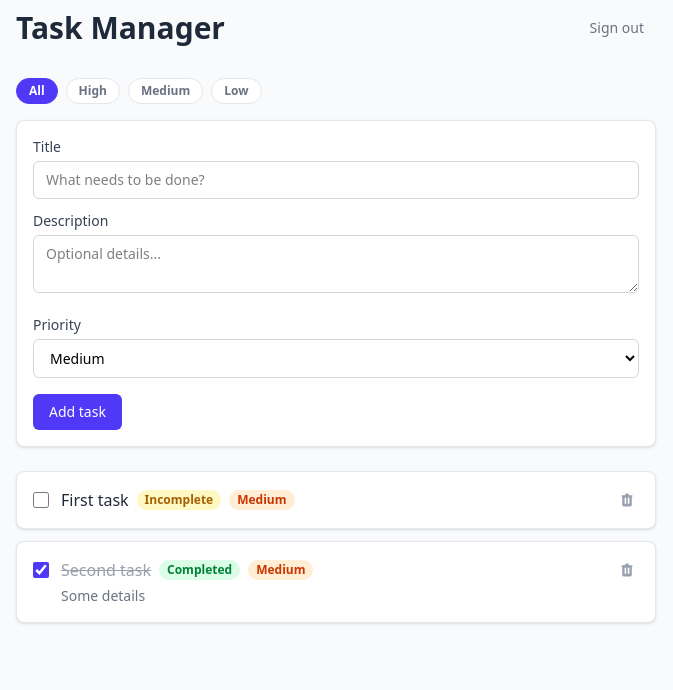
Test: App › prepends a new task to the list after form submission
This screenshot has width=673, height=690.
Expected: the text "First task" is shown, 61,488 -> 129,512
In the field labelled "Title": {"x": 336, "y": 180} 33,161 -> 639,199, type "Brand new task"
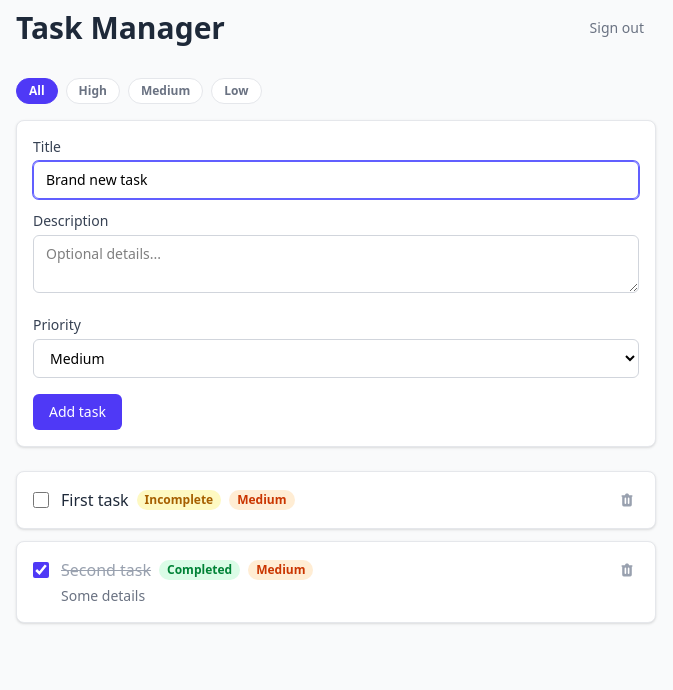
Click the button "Add task": {"x": 77, "y": 412} 33,394 -> 122,430
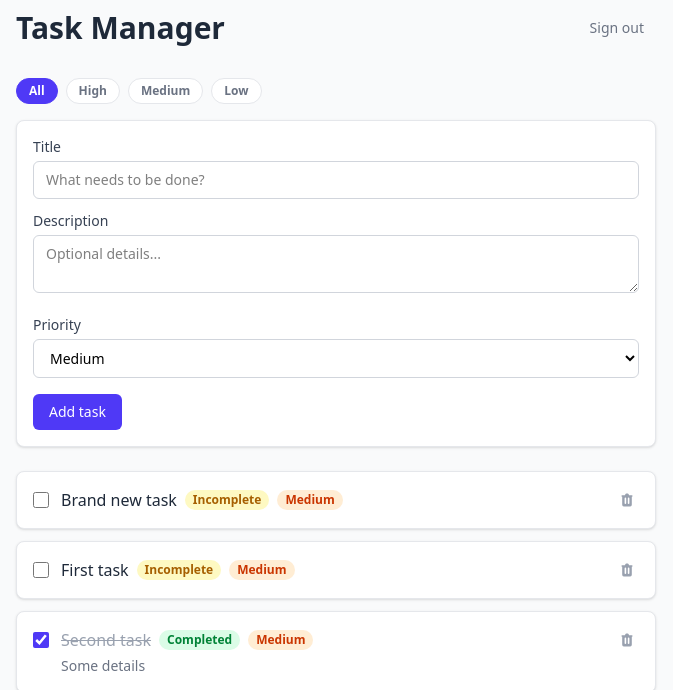
Expected: the text "Brand new task" is shown, 61,488 -> 177,512
